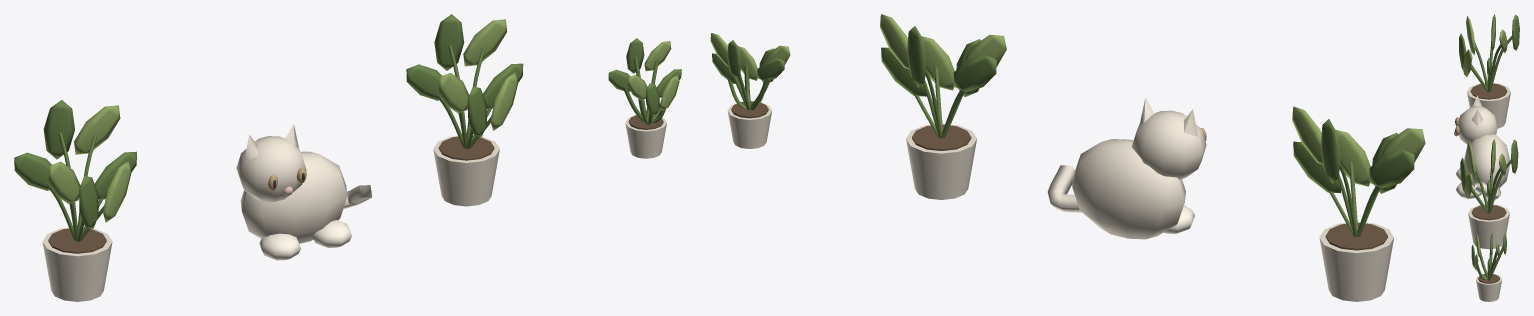
File: bedroom_ref_sill_garden.glb
The picture shows the model from 3 angles, left to right: view 1: azimuth 30°, elevation 25°; view 2: azimuth 150°, elevation 25°; view 3: azimuth 270°, elevation 25°; orthographic projection. The views are drawn at different scales.
Bounding box in the file's own units: 2.44 × 0.6231 × 0.3323.
